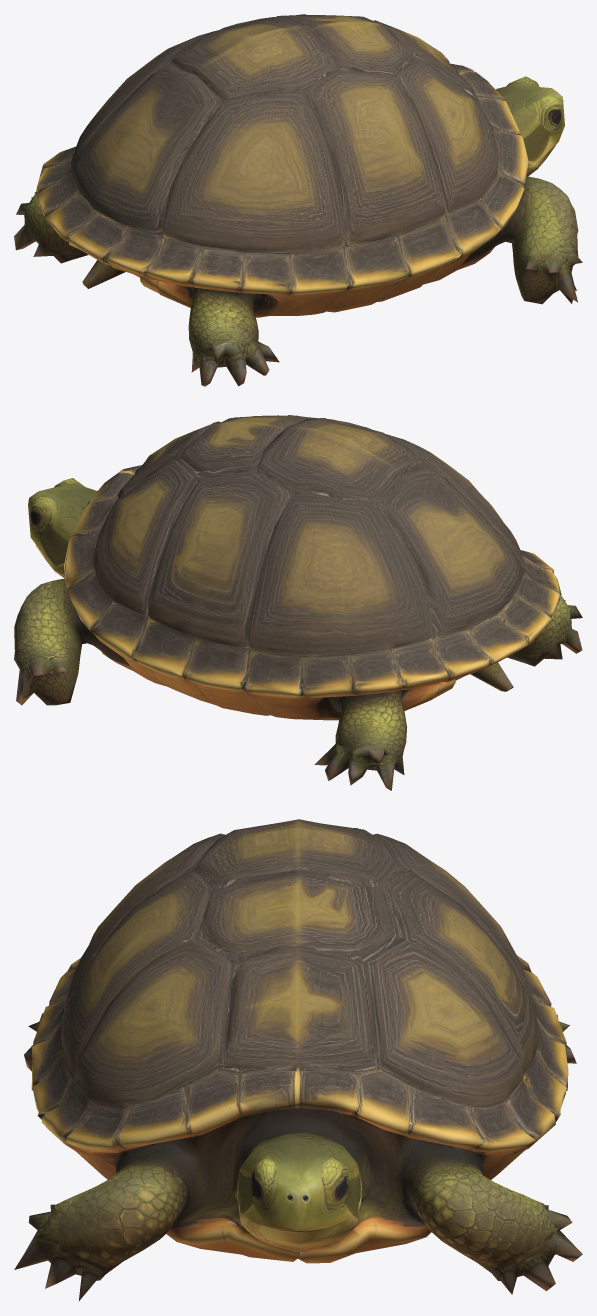
Rendered from rua_con.fbx.
The picture shows the model from 3 angles, top to bottom: view 1: azimuth 30°, elevation 25°; view 2: azimuth 150°, elevation 25°; view 3: azimuth 270°, elevation 25°; orthographic projection. The views are drawn at different scales.
Visible parts, largest first — view 1: rua_con; view 2: rua_con; view 3: rua_con.
Part boxes in pixels (bbox=[...]): rua_con: bbox=[14, 14, 582, 386]; rua_con: bbox=[14, 415, 582, 790]; rua_con: bbox=[14, 819, 582, 1301].
Size of the model in its own units: 98.31 by 47.65 by 75.67.
1 material, 1 textured.
